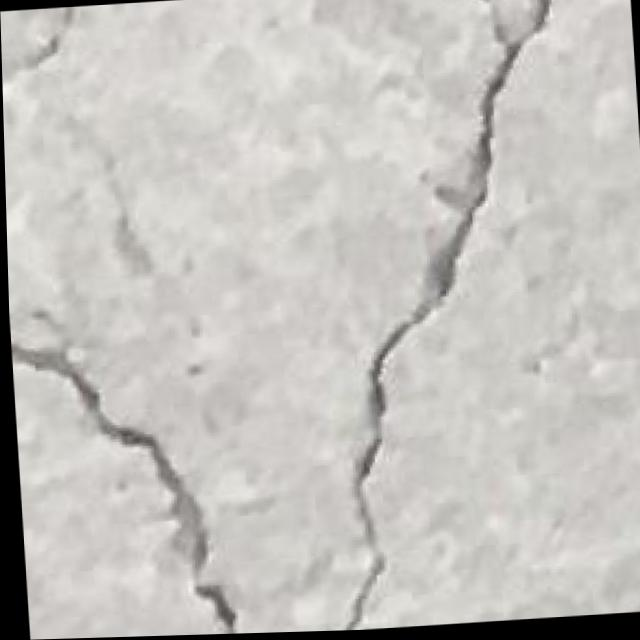Crack: (293, 0, 604, 633), (15, 308, 249, 640), (0, 5, 107, 90)
